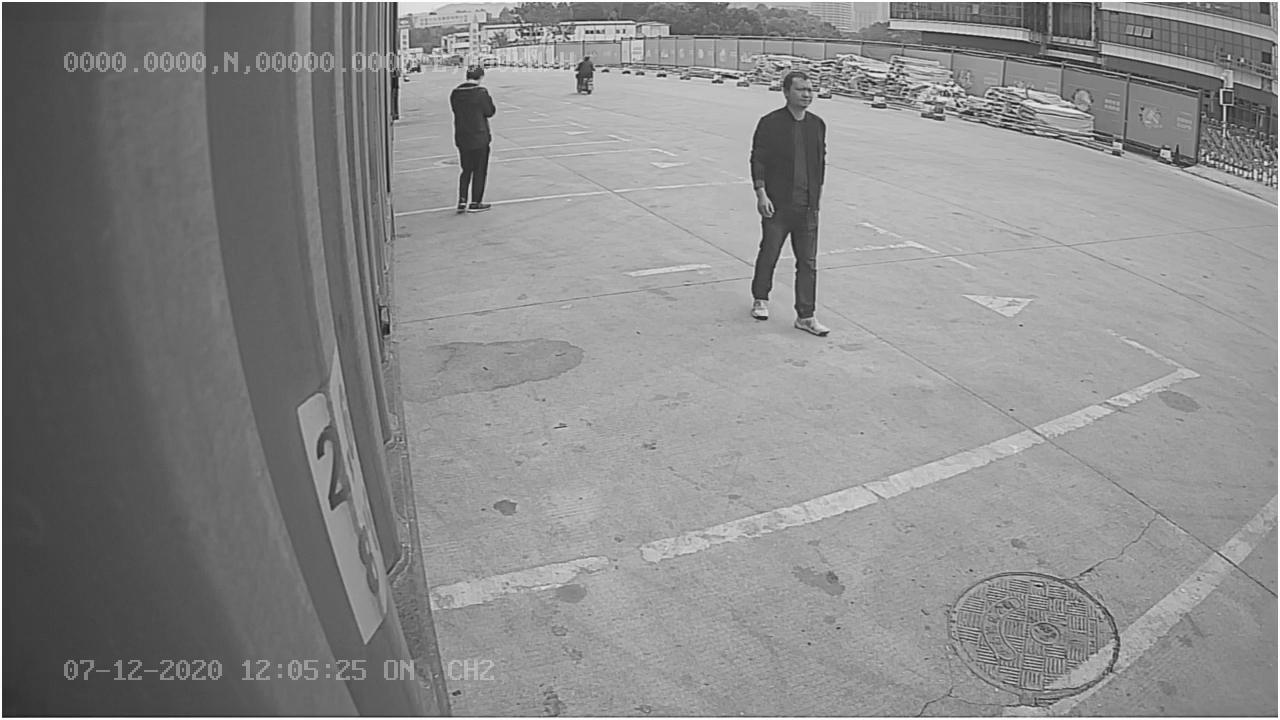person: (743, 67, 847, 334)
